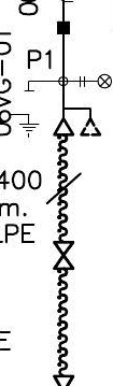22_gs: (10, 89, 40, 139)
22_ll: (79, 73, 113, 89)
terminator_splicing_kits: (52, 241, 75, 271)
terminator_w_future: (51, 106, 102, 138)
